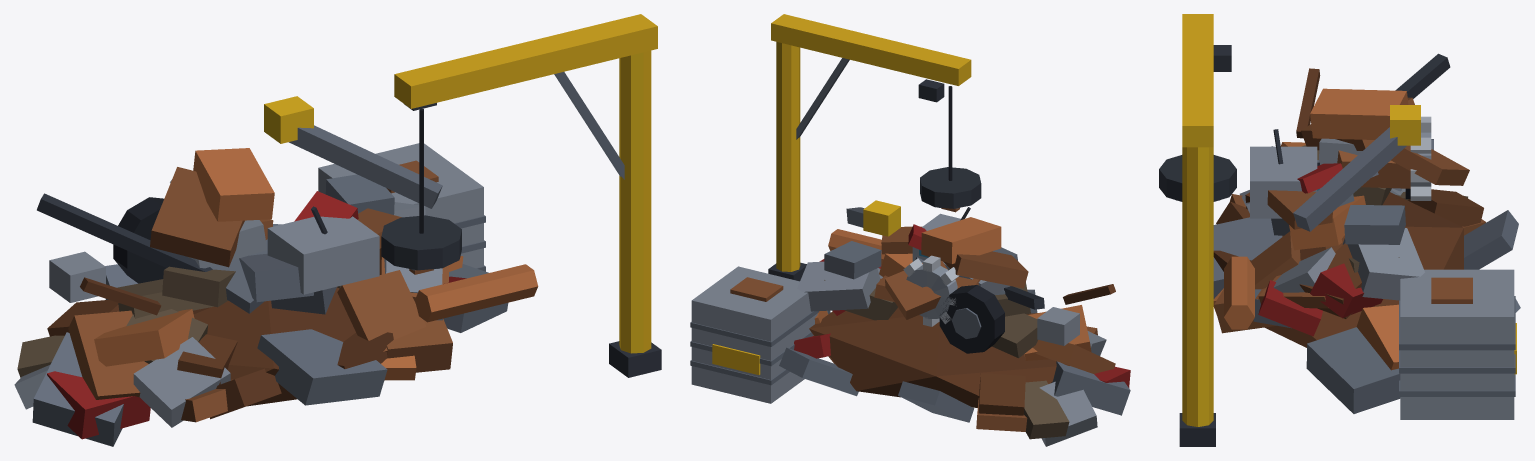
The model's file is Decor_RobotFactory_Scrap.fbx.
3 renders of one model, left to right at view 1: azimuth 30°, elevation 25°; view 2: azimuth 150°, elevation 25°; view 3: azimuth 270°, elevation 25°, orthographic. The views are drawn at different scales.
Visible parts, largest first — view 1: Scrap_Body; view 2: Scrap_Body; view 3: Scrap_Body.
Boxes of the visible parts, x1,y1,x2,y2 form: Scrap_Body: (14,14,661,446); Scrap_Body: (690,14,1130,446); Scrap_Body: (1159,14,1520,446).
Size of the model in its own units: 22.1 by 13.75 by 13.7.
